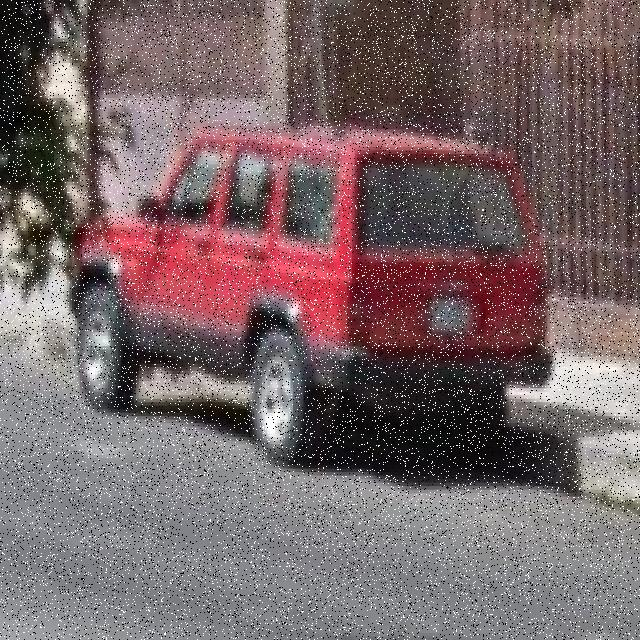cars: (53, 120, 561, 495)
